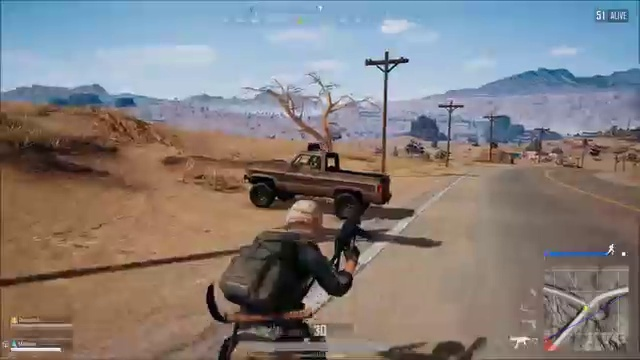Player: (175, 195, 374, 320)
